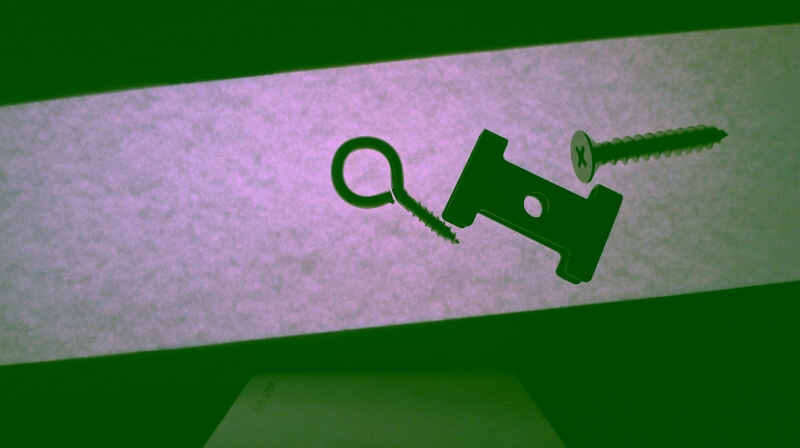O001: (327, 133, 462, 246)
O002: (443, 128, 621, 286)
S001: (568, 120, 729, 183)
